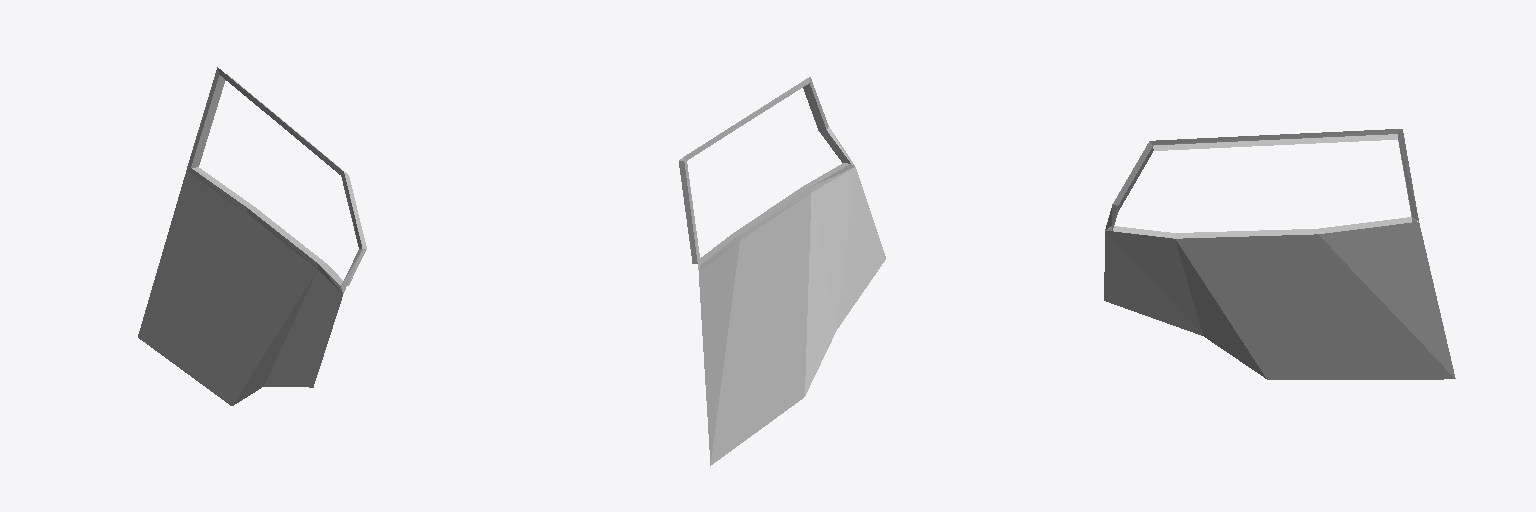
Rendered from porta_tras_esquerda.obj.
3 views of the same model, side by side, from view 1: azimuth 30°, elevation 25°; view 2: azimuth 150°, elevation 25°; view 3: azimuth 270°, elevation 25° (orthographic).
Visible parts, largest first — view 1: Porta_tras_esquerda; view 2: Porta_tras_esquerda; view 3: Porta_tras_esquerda.
Boxes of the visible parts, x1=… form: Porta_tras_esquerda: x1=138, y1=67, x2=366, y2=405; Porta_tras_esquerda: x1=679, y1=77, x2=885, y2=465; Porta_tras_esquerda: x1=1104, y1=129, x2=1455, y2=379.
Bounding box in the file's own units: 0.2011 × 0.8744 × 1.01.